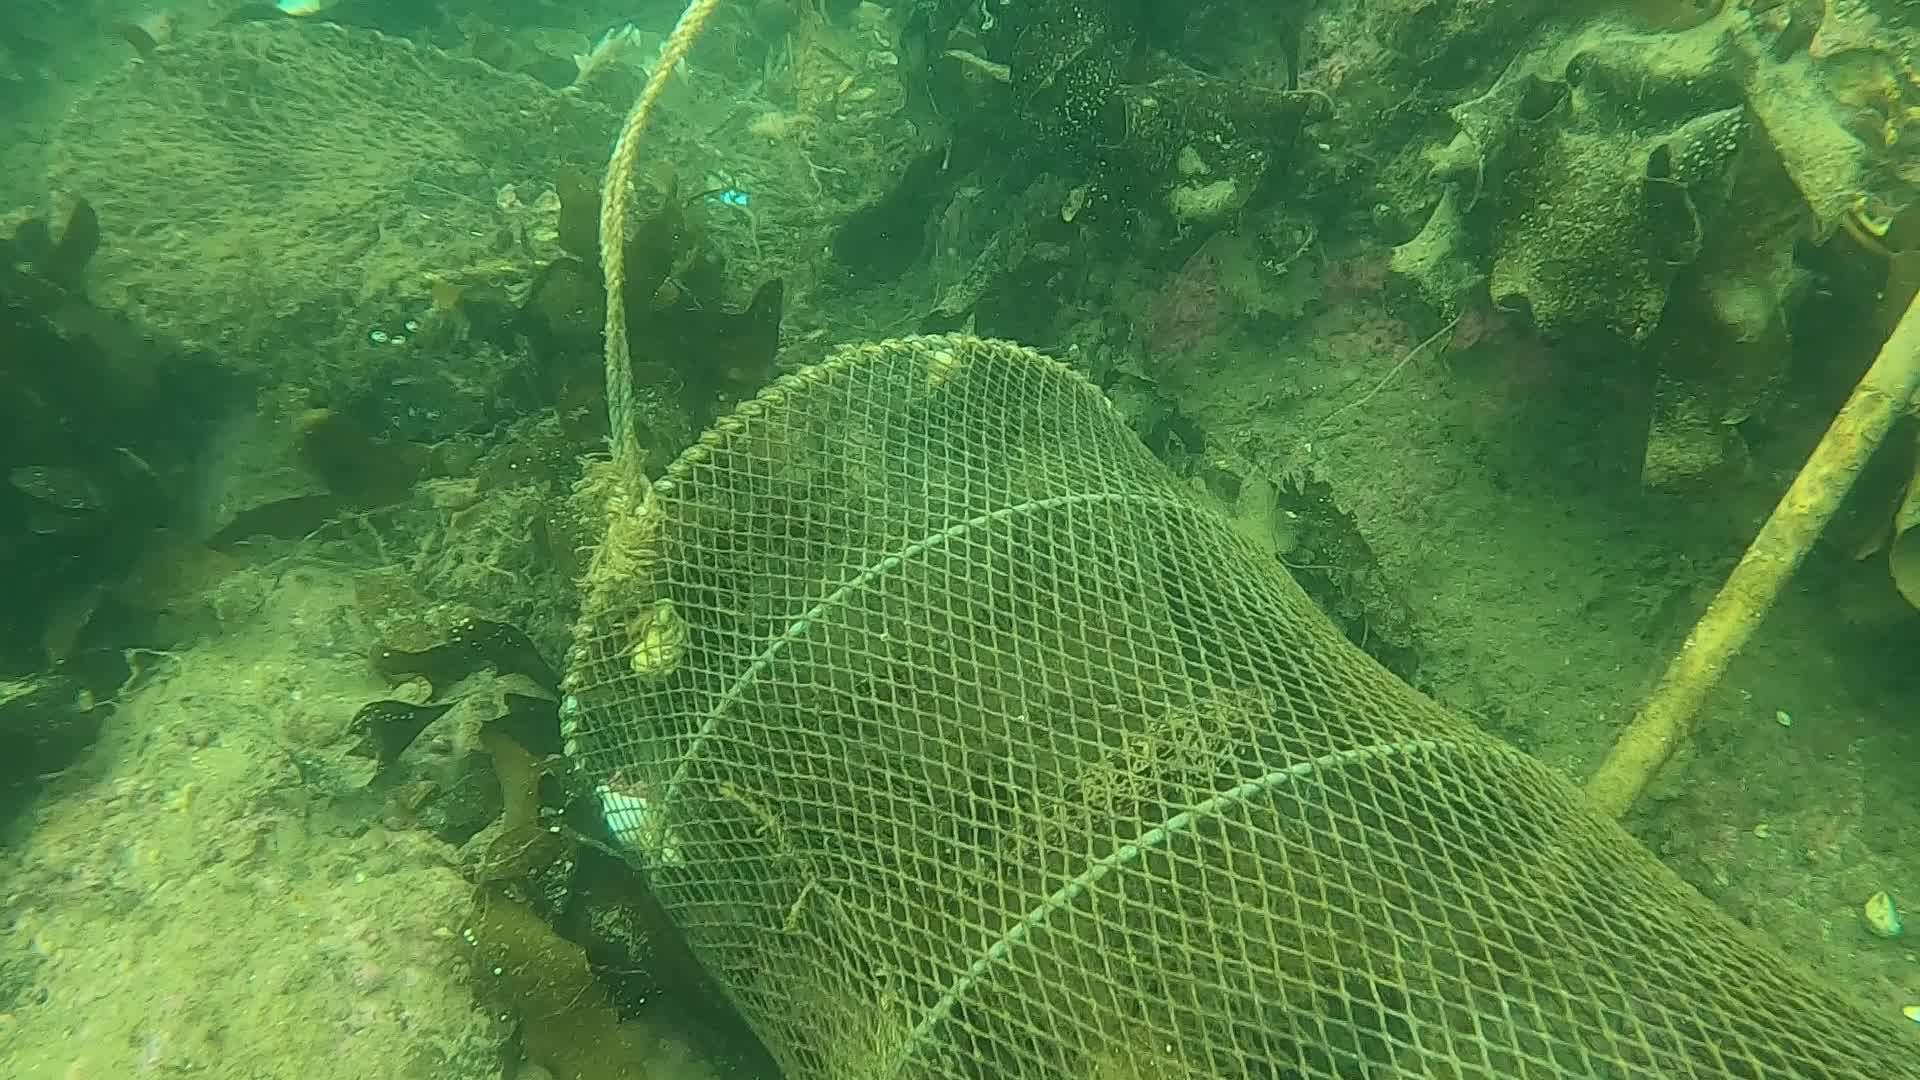bundle of ropes: (597, 0, 721, 508)
spring fish trap: (555, 334, 1920, 1080)
